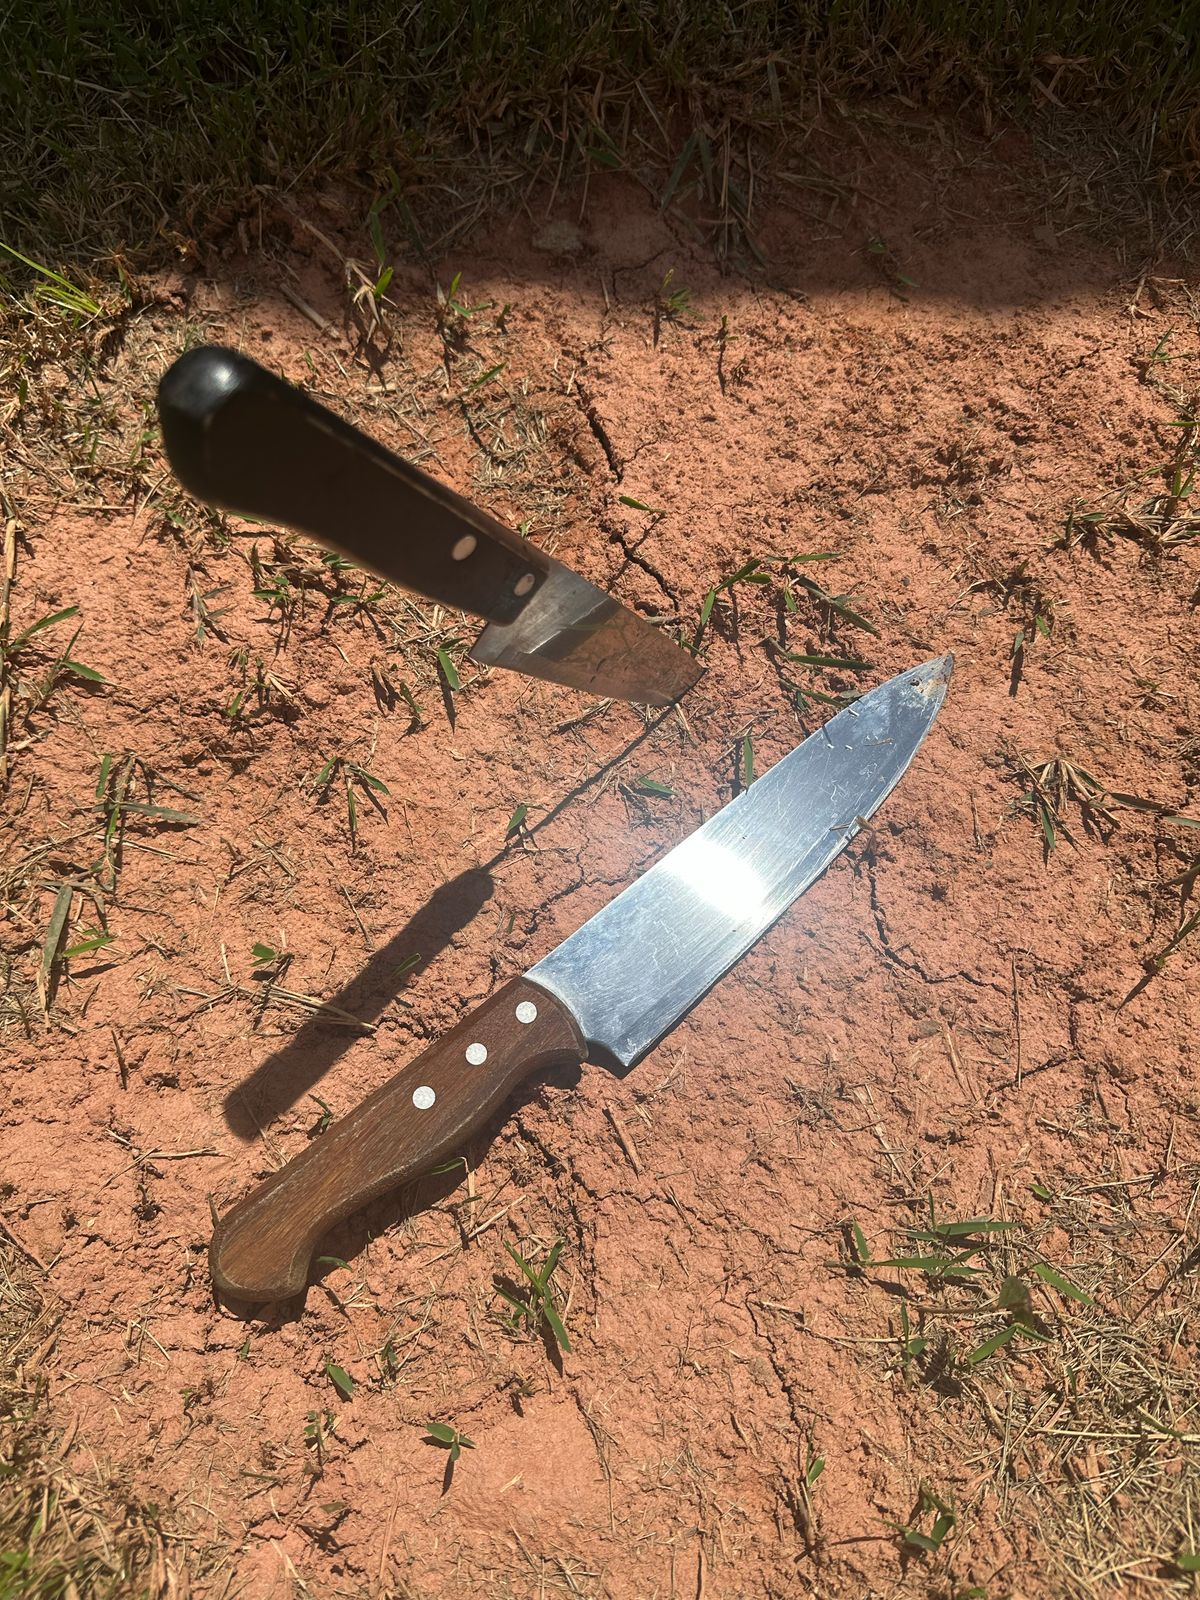faca: (197, 625, 978, 1319), (131, 321, 713, 707)
